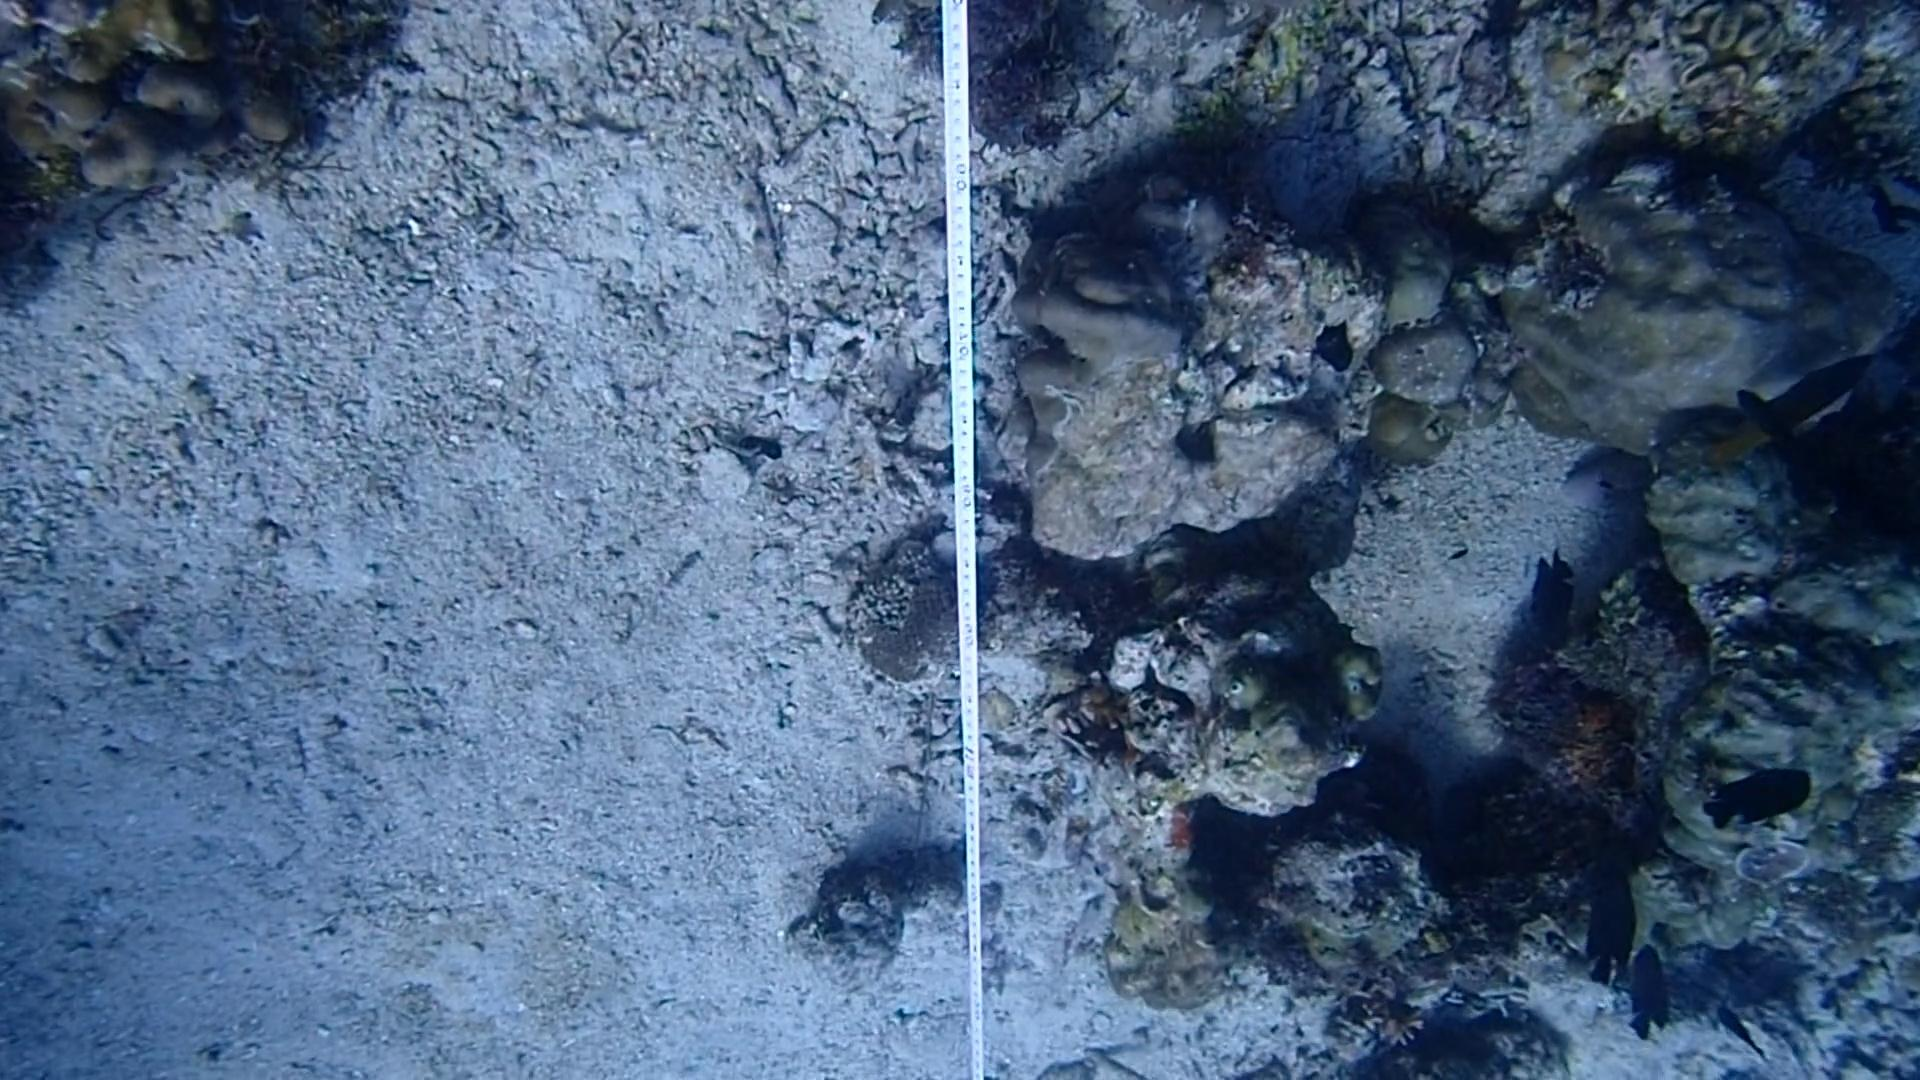Dark Fish: (1717, 377, 1833, 477), (1698, 760, 1815, 851), (1572, 862, 1642, 998), (1511, 545, 1586, 645), (1623, 943, 1677, 1048), (1709, 993, 1760, 1063)
Half Blue - Half Yellow: (1692, 343, 1870, 488)
